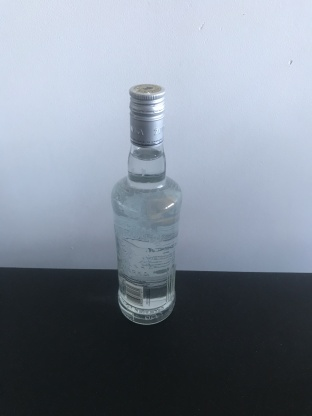nakretka: (128, 82, 167, 150)
